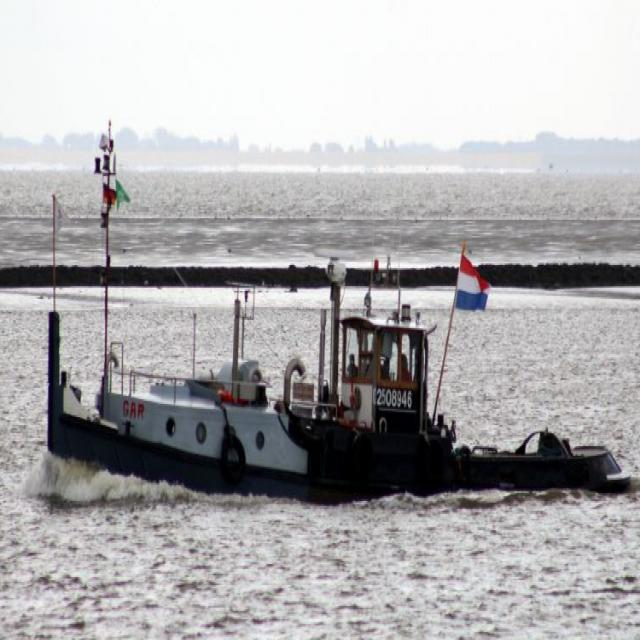tugboat: (46, 185, 638, 528)
